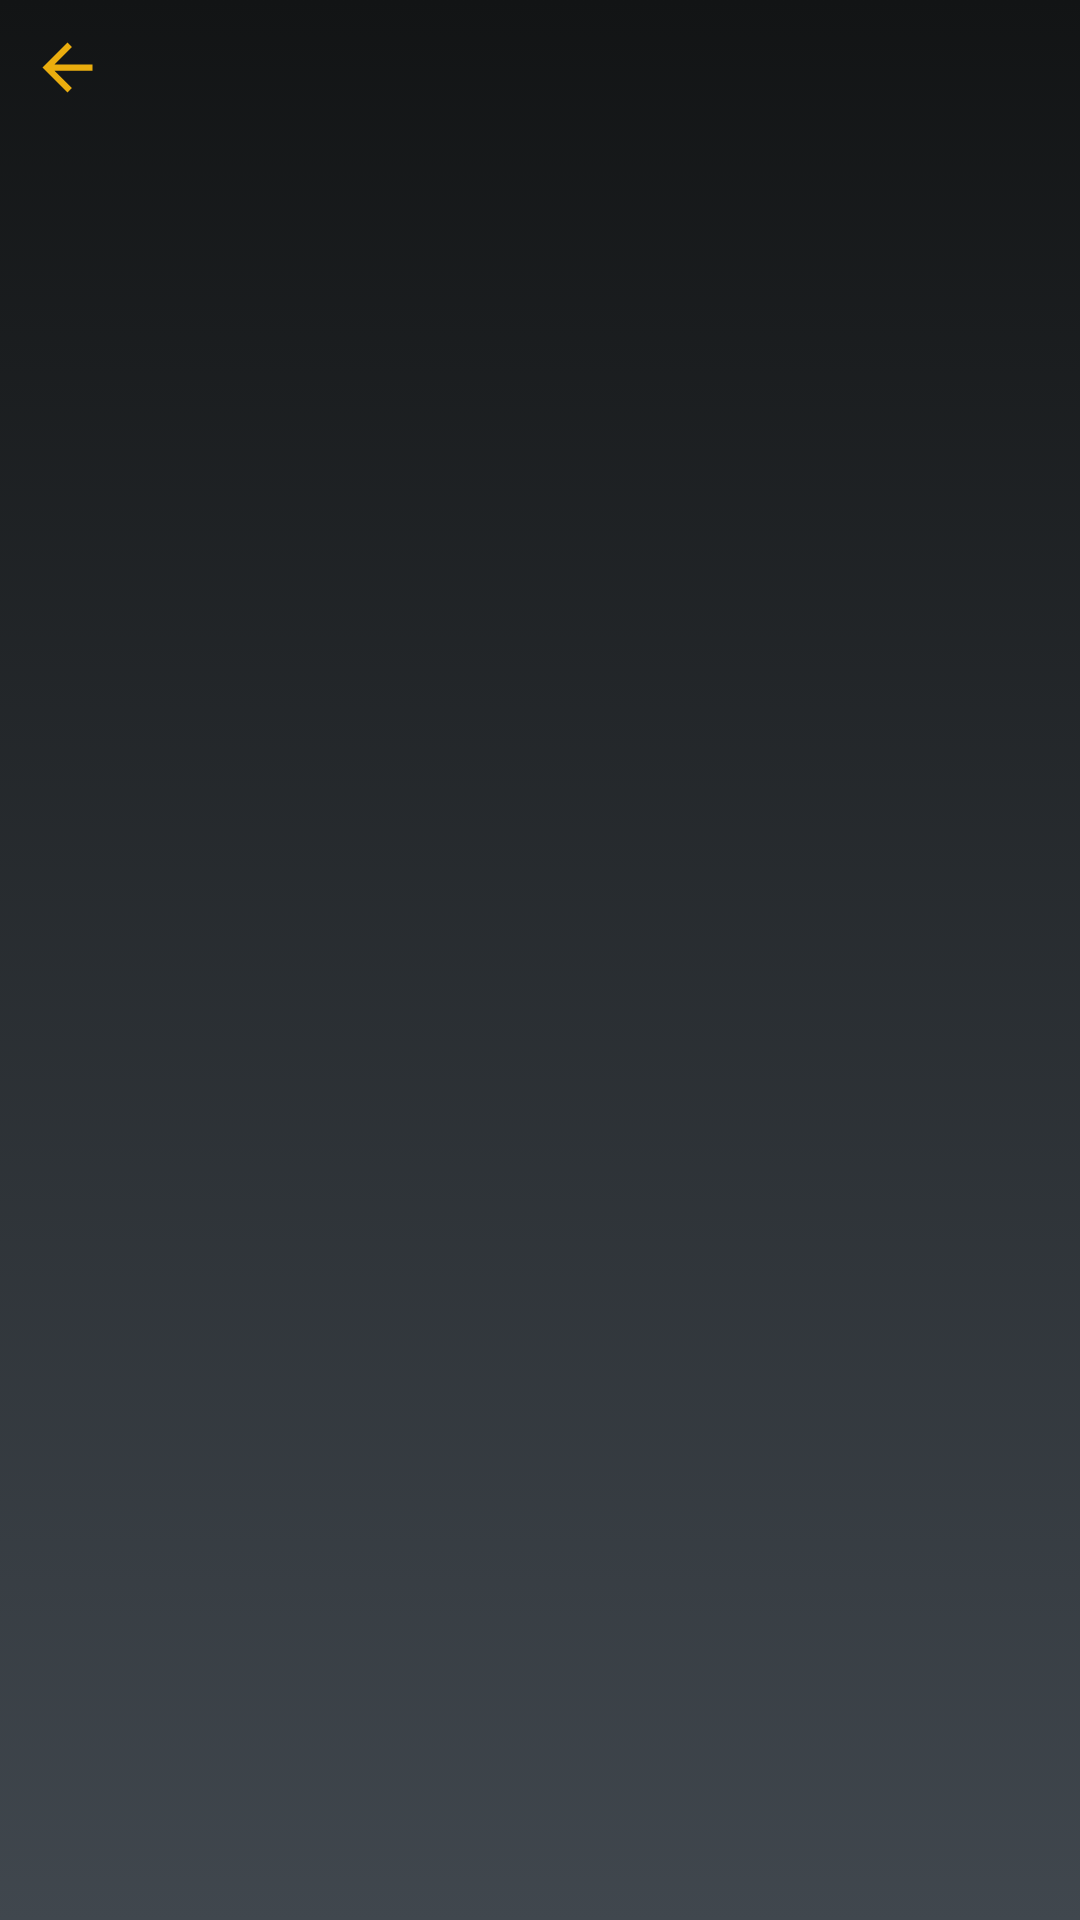

Icon bounding boxes for this 1080x1920 phone screenshot, format box=[x1, y1, x2, y2]:
back: box=[42, 42, 93, 93]
